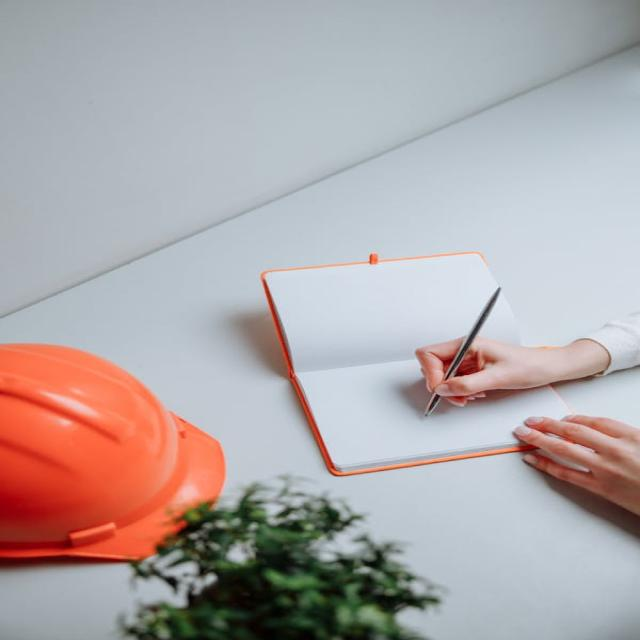pen: (395, 276, 536, 431)
